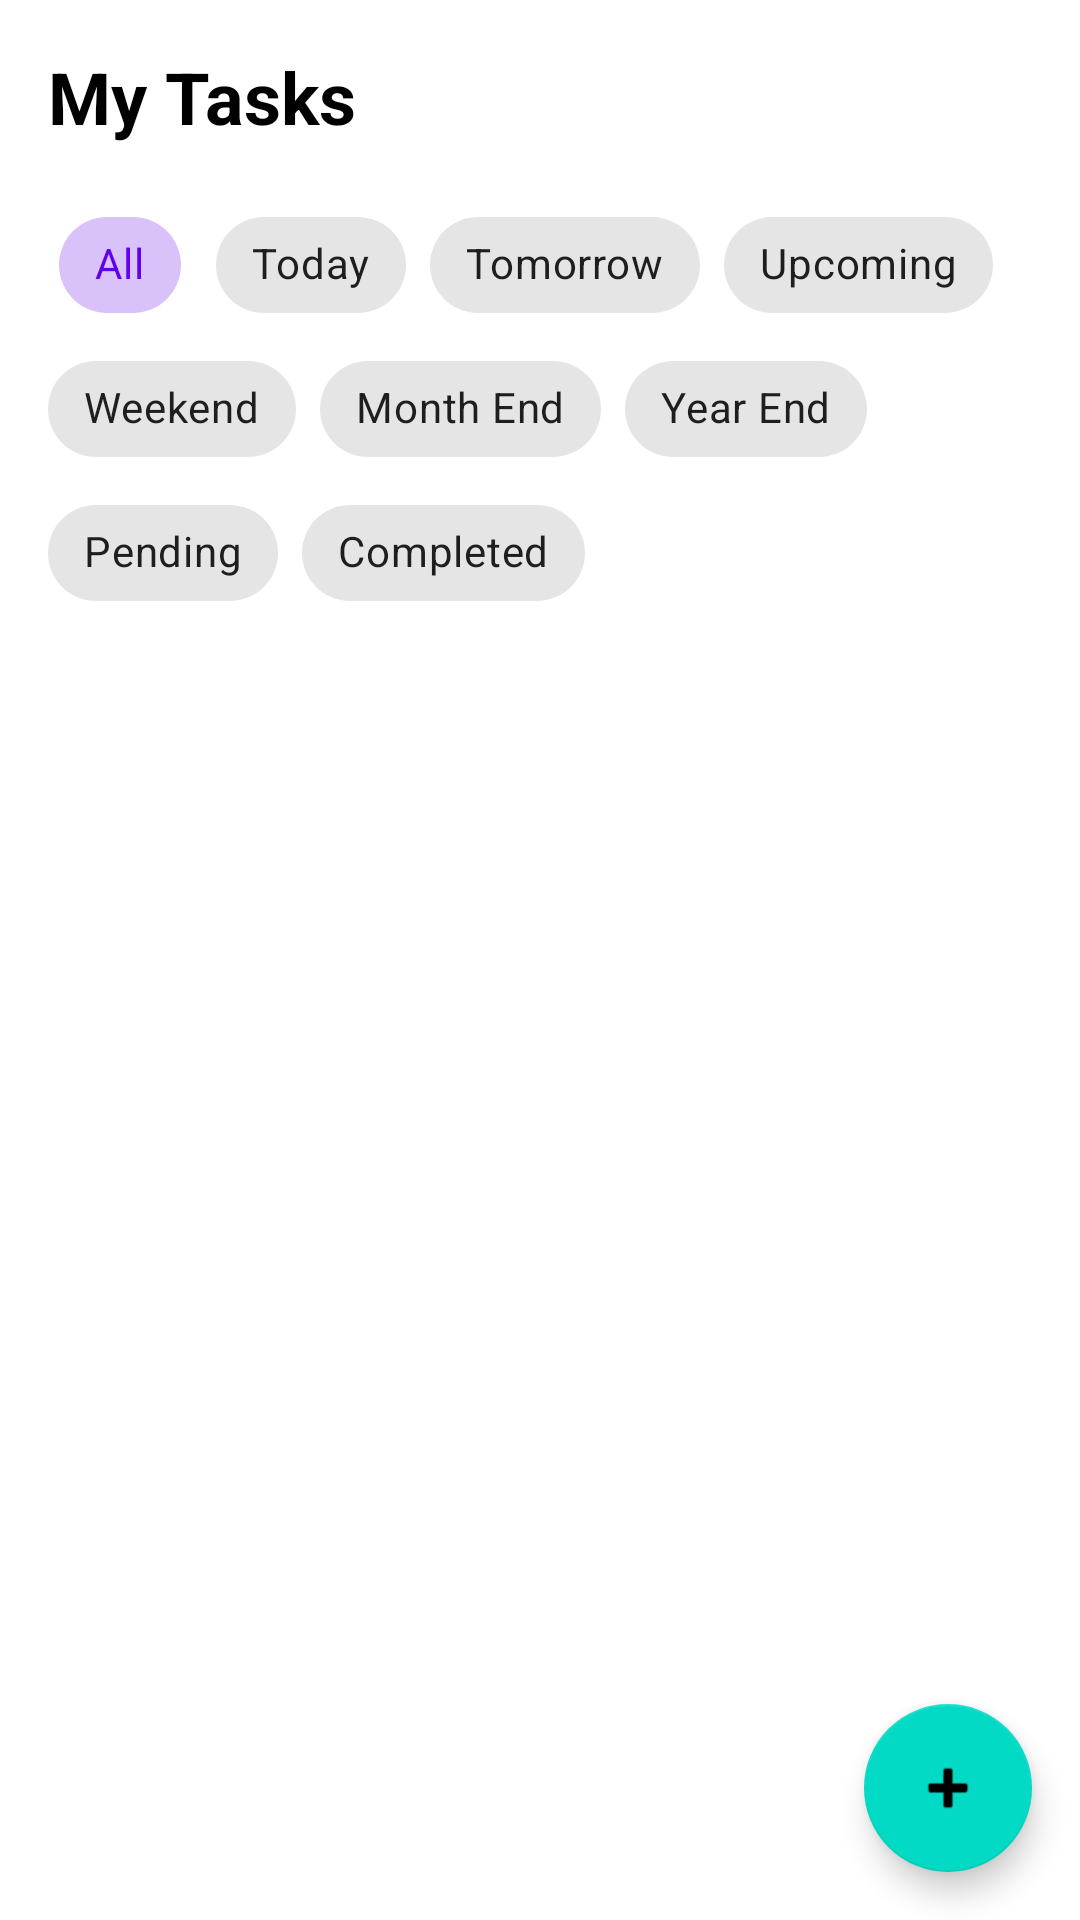

Icons on this 1080×1920 Android screen, each with its box as Rect(x1, y1, x2, y2):
Add Task: Rect(864, 1704, 1032, 1872)
